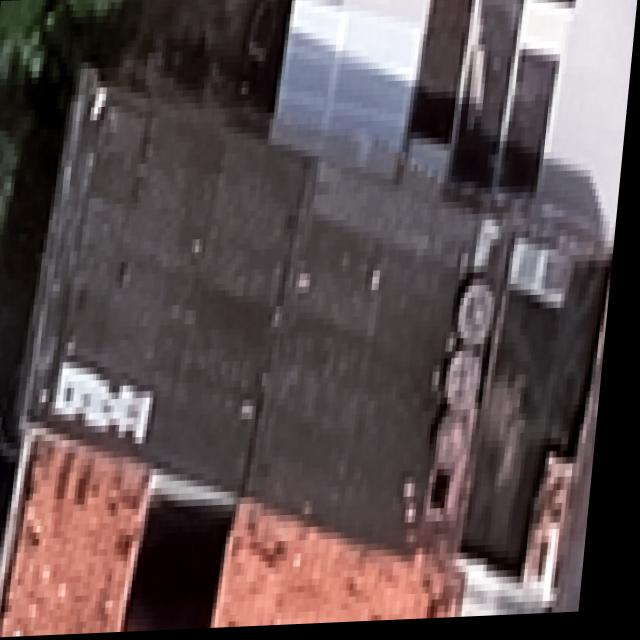Batiment: (225, 503, 474, 630), (11, 439, 159, 634)
